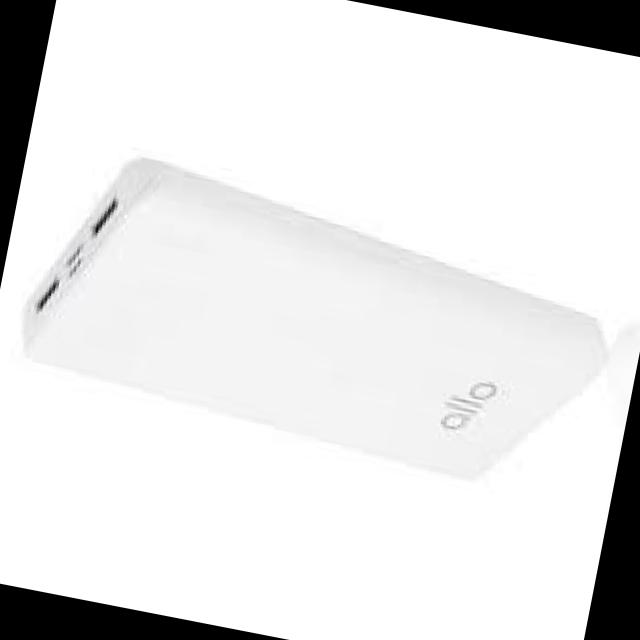power_bank: (8, 136, 628, 502)
